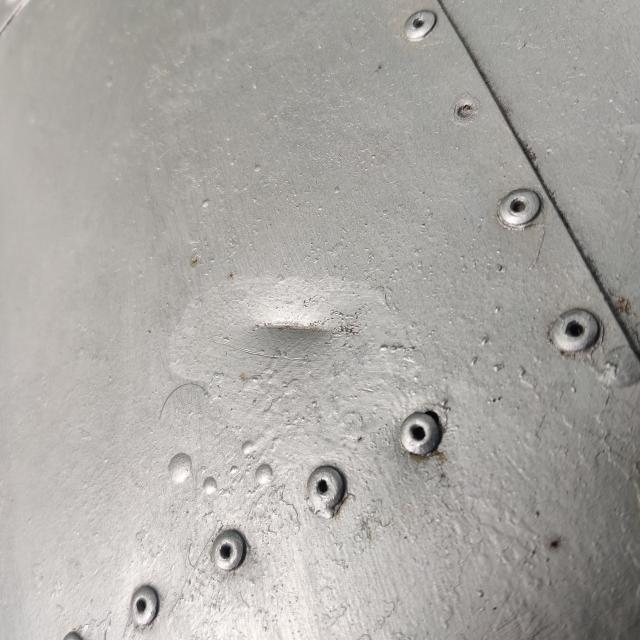dent: (235, 207, 400, 376)
